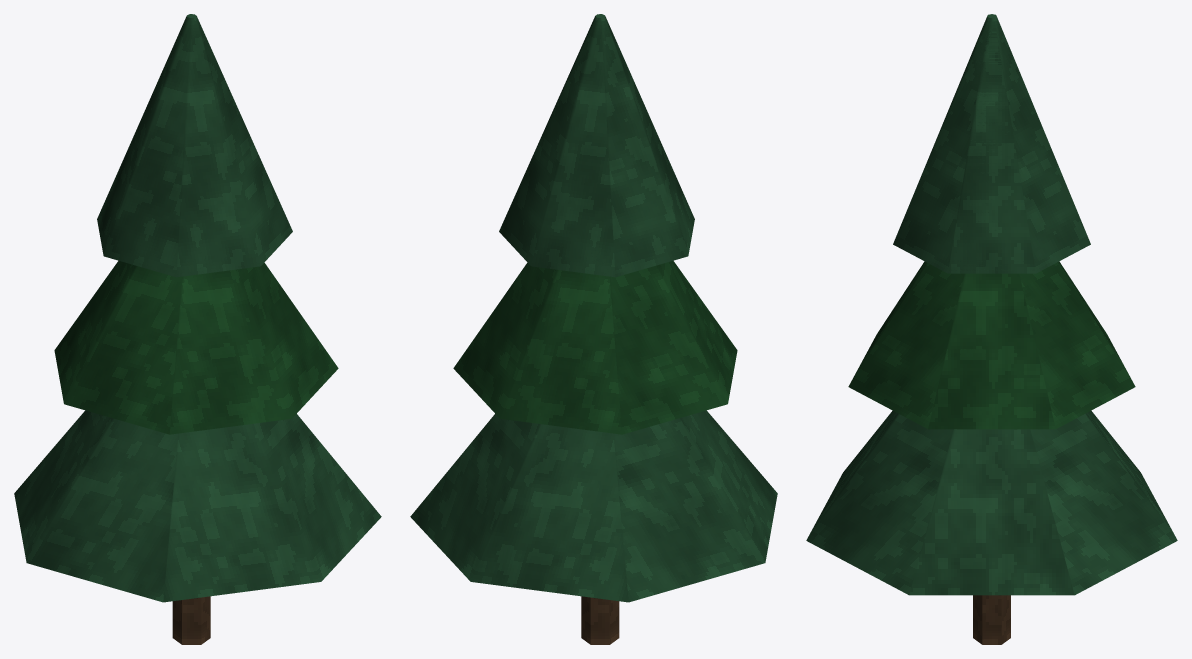
Rendered from arvoreta_pinheiro.glb.
3 views of the same model, side by side, from view 1: azimuth 30°, elevation 25°; view 2: azimuth 150°, elevation 25°; view 3: azimuth 270°, elevation 25° (orthographic).
Parts seen in each view (by area): view 1: Inteiro; view 2: Inteiro; view 3: Inteiro, Peca_03.
Part boxes in pixels (left/top/right/bottom): Inteiro: left=14, top=14, right=381, bottom=644; Inteiro: left=410, top=14, right=777, bottom=644; Inteiro: left=806, top=14, right=1177, bottom=644; Peca_03: left=949, top=18, right=1034, bottom=270.
Bounding box in the file's own units: 1.43 × 2.7 × 1.46.
Materials: 1 (1 with a texture image).
